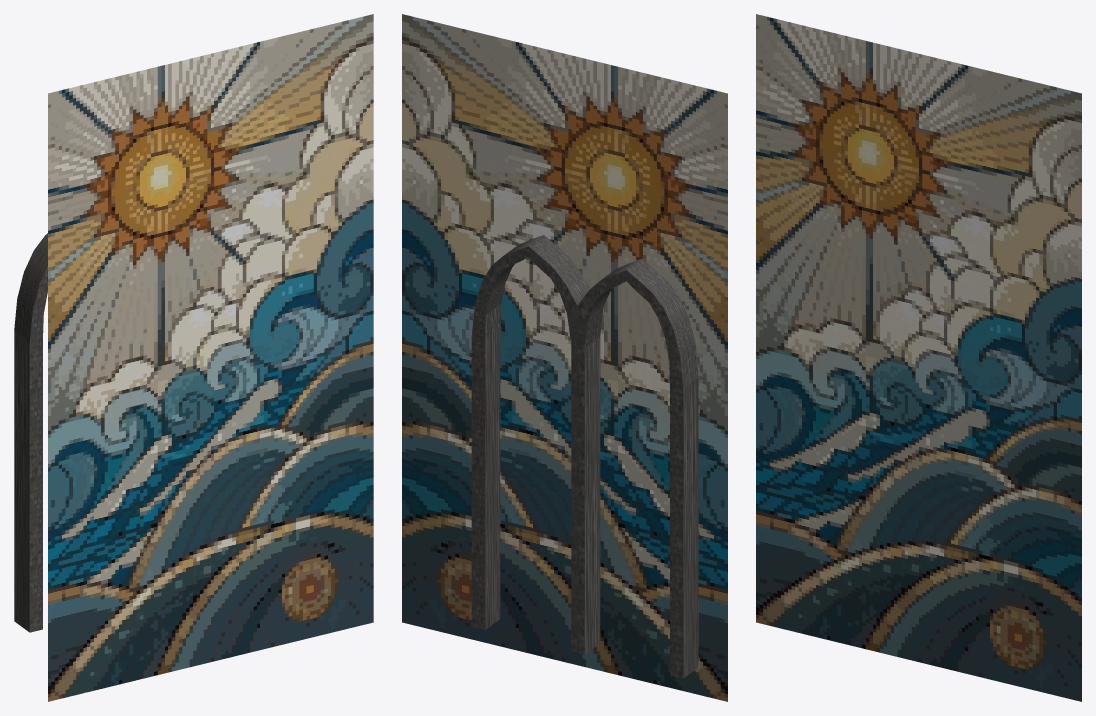
File: secret_door.glb
3 renders of one model, left to right at view 1: azimuth 30°, elevation 25°; view 2: azimuth 150°, elevation 25°; view 3: azimuth 330°, elevation 25°, orthographic.
Visible parts, largest first — view 1: vitraliu, Cube.005; view 2: vitraliu, Cube.005; view 3: vitraliu.
Boxes of the visible parts, left/top/right/bottom form: vitraliu: left=48, top=14, right=373, bottom=701; Cube.005: left=14, top=233, right=47, bottom=632; vitraliu: left=402, top=14, right=727, bottom=701; Cube.005: left=471, top=235, right=698, bottom=678; vitraliu: left=756, top=14, right=1081, bottom=701.
Size of the model in its own units: 4.02 by 7.18 by 0.8389.
Materials: 2 (2 with a texture image).
